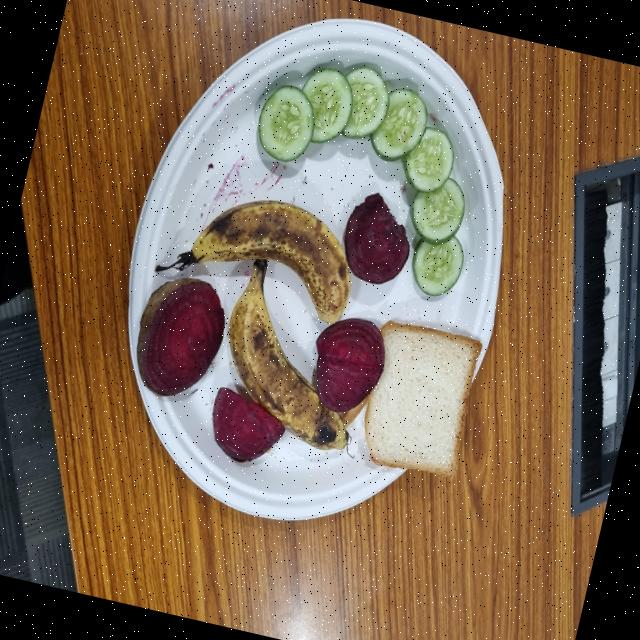banana: (318, 112, 478, 286), (419, 52, 526, 266)
cucumber: (549, 120, 613, 197), (536, 271, 600, 345), (423, 340, 483, 413), (562, 177, 618, 245), (509, 315, 563, 384), (468, 334, 519, 406), (559, 231, 618, 293)
